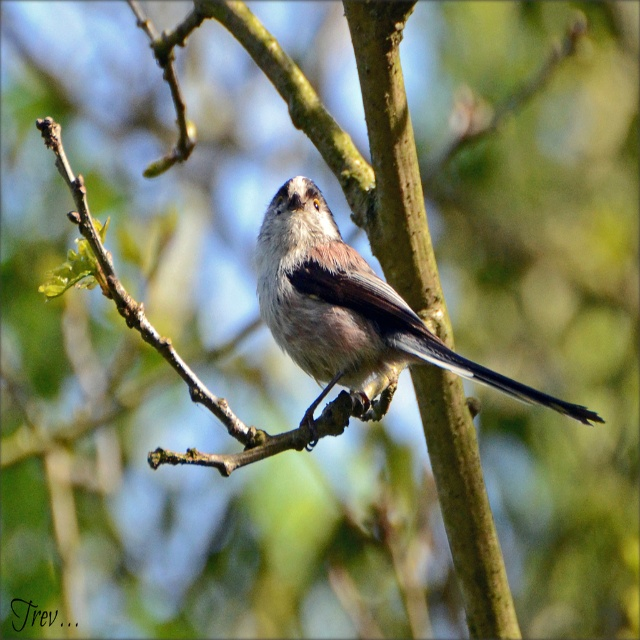Sparrow: (250, 176, 608, 452)
